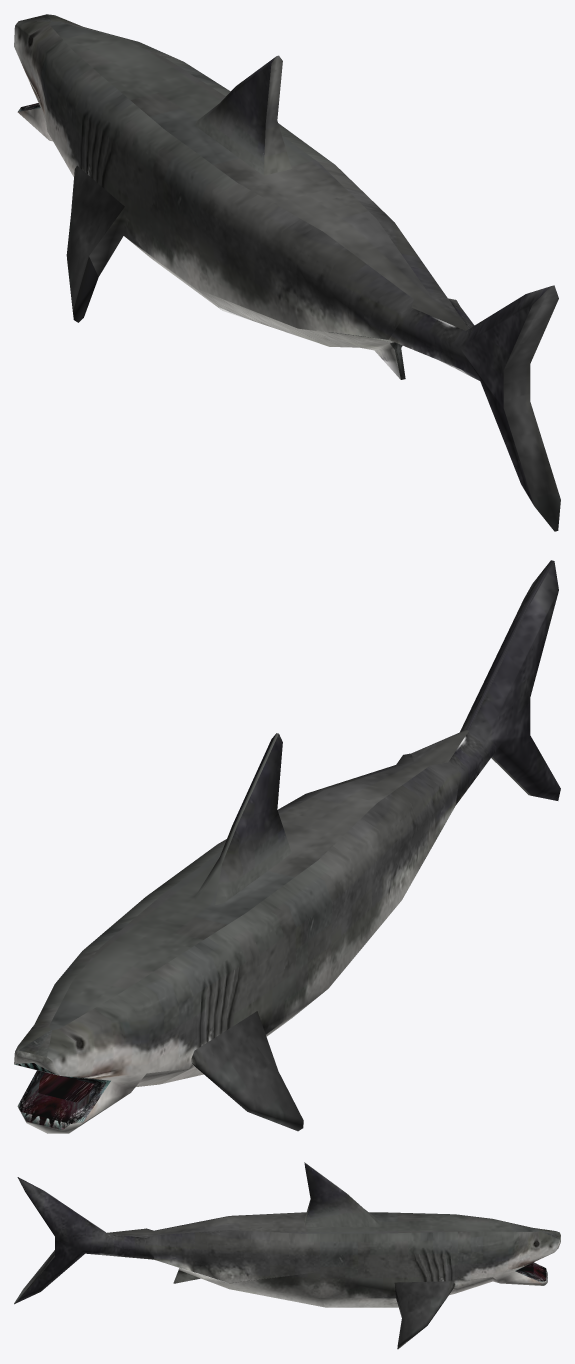
The model's file is shark.fbx.
3 views of the same model, one above another, from view 1: azimuth 30°, elevation 25°; view 2: azimuth 150°, elevation 25°; view 3: azimuth 270°, elevation 25° (orthographic). The views are drawn at different scales.
Parts seen in each view (by area): view 1: Cube; view 2: Cube; view 3: Cube.
Part boxes in pixels (left/top/right/bottom): Cube: left=14, top=14, right=560, bottom=531; Cube: left=14, top=560, right=560, bottom=1133; Cube: left=14, top=1162, right=560, bottom=1349.
Bounding box in the file's own units: 396 × 501 × 1558.
2 materials, 2 textured.
